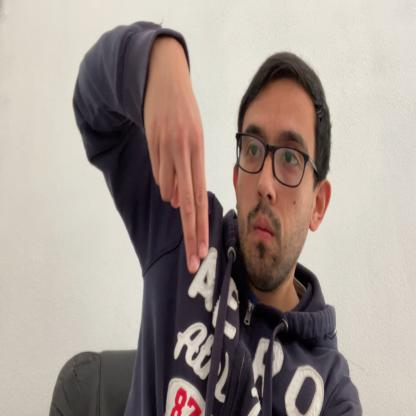N: (144, 36, 209, 274)
